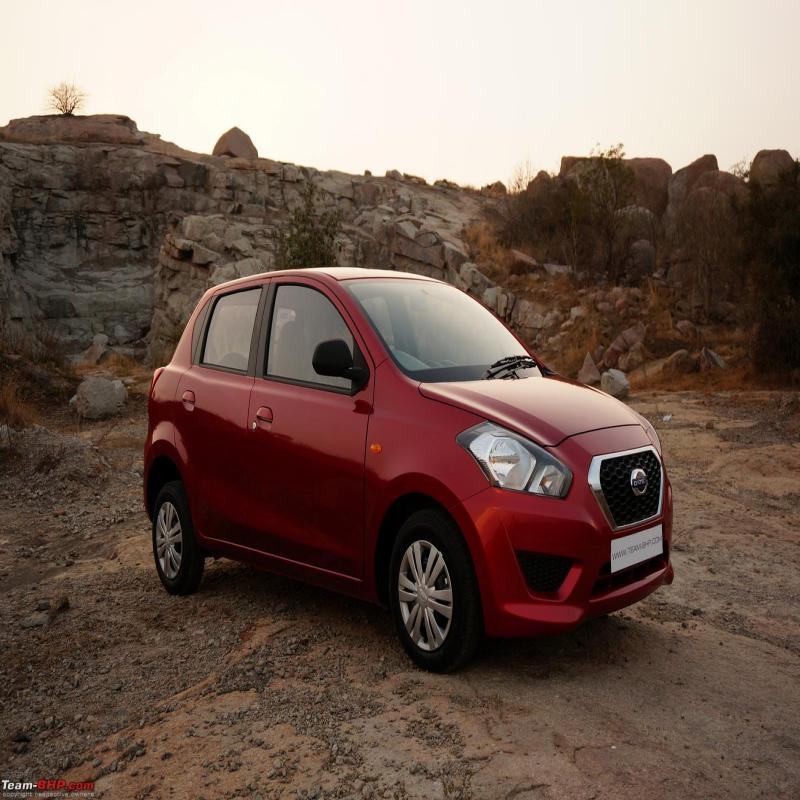car: (134, 264, 684, 657)
